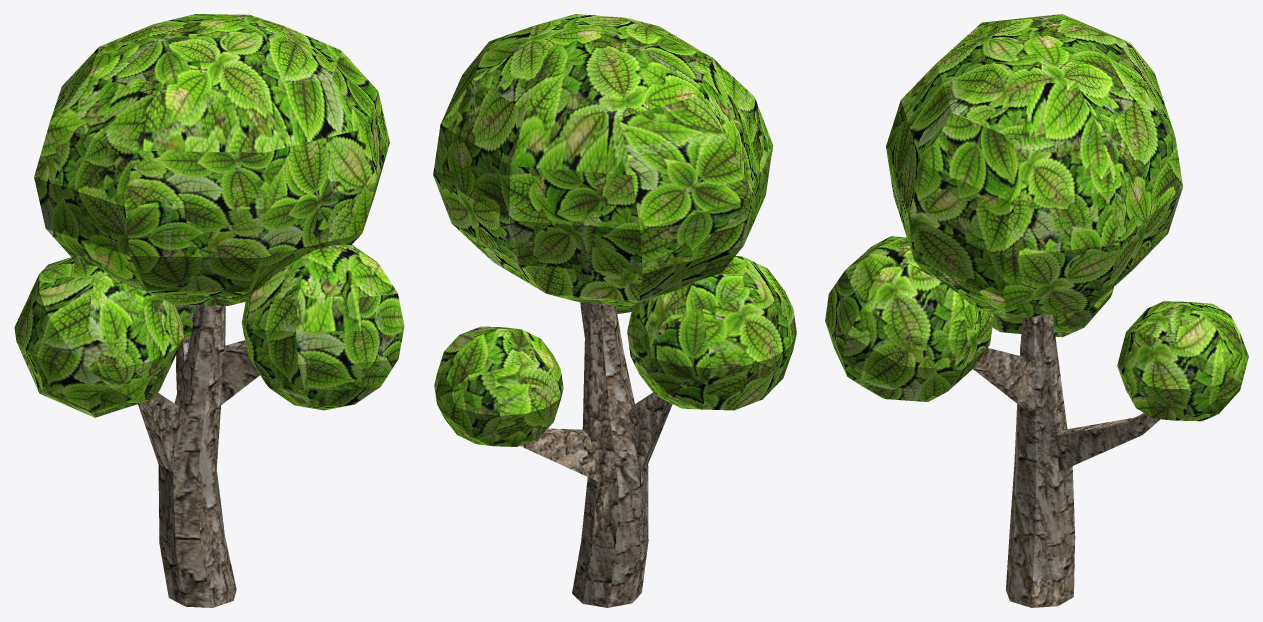
Rendered from tree1.fbx.
3 renders of one model, left to right at view 1: azimuth 30°, elevation 25°; view 2: azimuth 150°, elevation 25°; view 3: azimuth 270°, elevation 25°, orthographic.
Visible parts, largest first — view 1: tree1:Tree_01; view 2: tree1:Tree_01; view 3: tree1:Tree_01.
Boxes of the visible parts, x1,y1,x2,y2 form: tree1:Tree_01: (14, 14, 404, 607); tree1:Tree_01: (433, 14, 796, 607); tree1:Tree_01: (825, 14, 1248, 607).
Size of the model in its own units: 18.32 by 28.46 by 19.51.
1 material, 1 textured.
